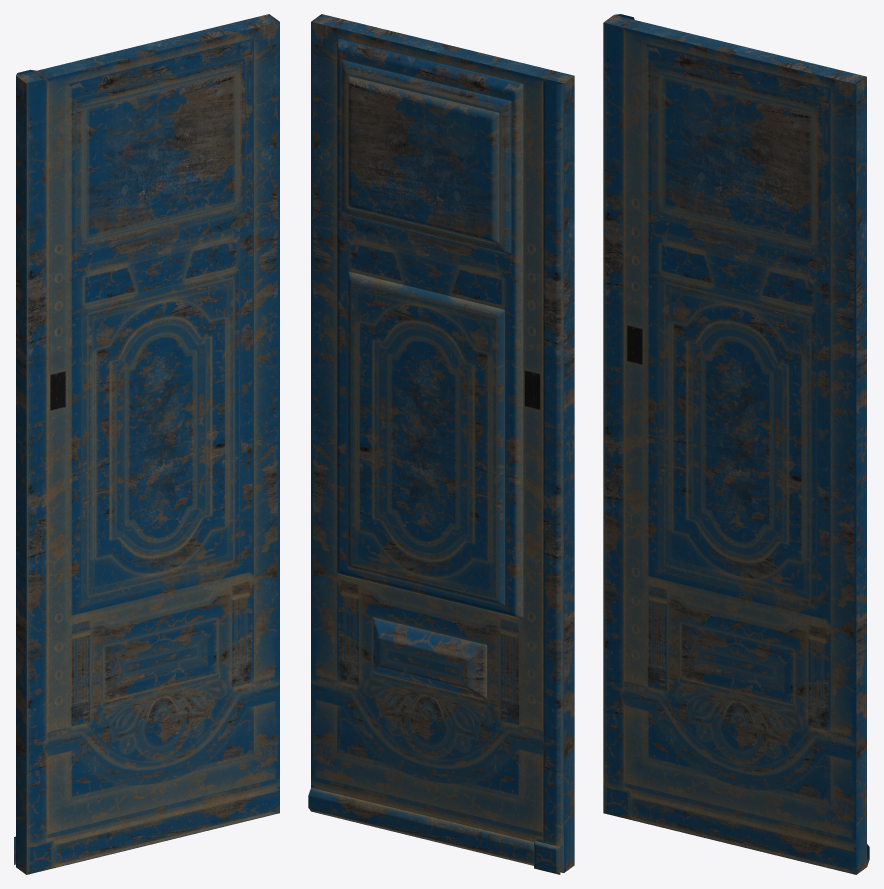
The model's file is SM_DoorRight.FBX.
The picture shows the model from 3 angles, left to right: view 1: azimuth 30°, elevation 25°; view 2: azimuth 150°, elevation 25°; view 3: azimuth 330°, elevation 25°; orthographic projection.
Visible parts, largest first — view 1: SM_DoorRight; view 2: SM_DoorRight; view 3: SM_DoorRight.
Part boxes in pixels (box(x1,y1,x2,y2)): SM_DoorRight: box(14, 14, 279, 874); SM_DoorRight: box(308, 14, 574, 874); SM_DoorRight: box(603, 14, 869, 874).
Size of the model in its own units: 150 by 19.94 by 448.
